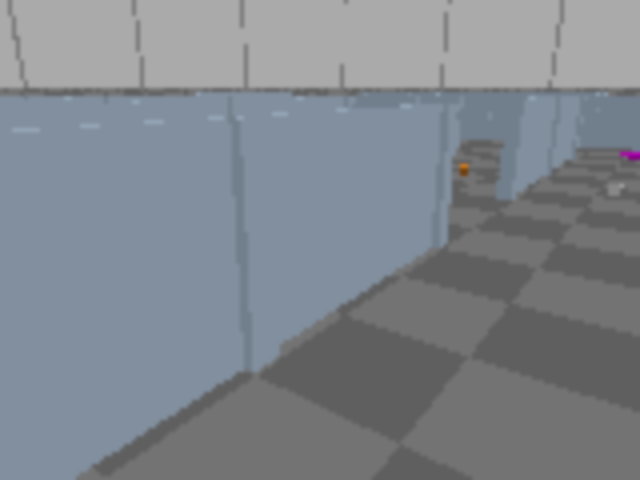person: (0, 0, 2, 402)
